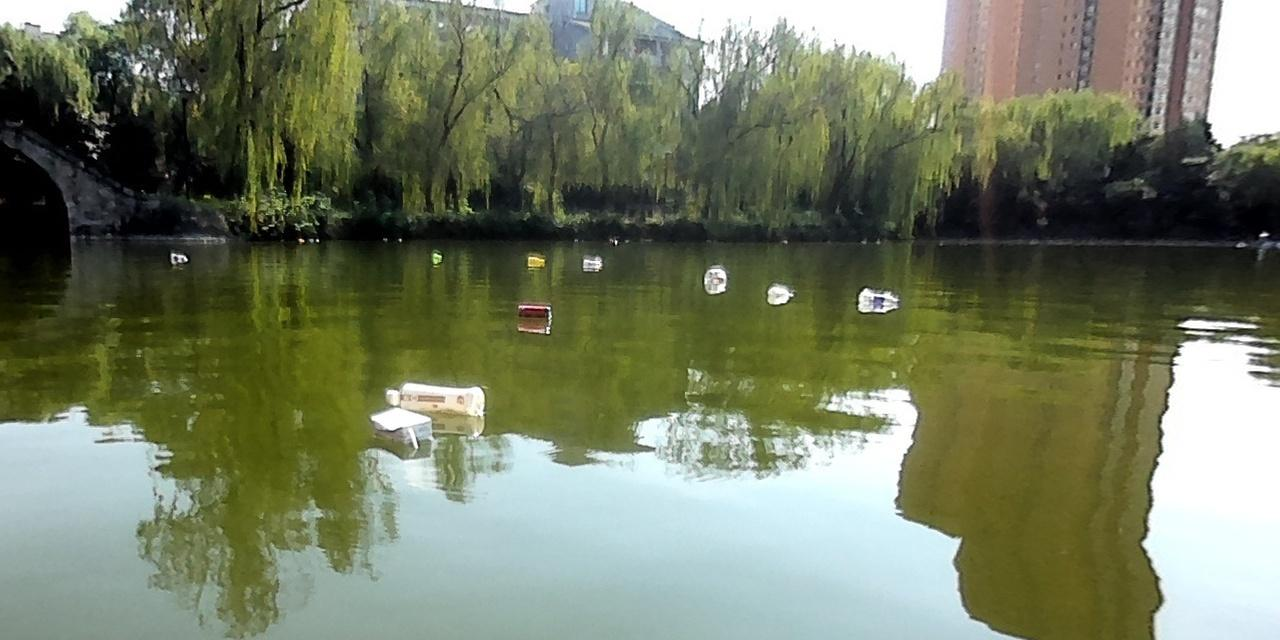bottle: (365, 404, 431, 453), (384, 383, 485, 415), (856, 289, 897, 309), (516, 303, 551, 320), (703, 266, 726, 288), (766, 285, 789, 298), (167, 251, 187, 265), (581, 257, 603, 267), (527, 255, 543, 266), (431, 251, 442, 264)
